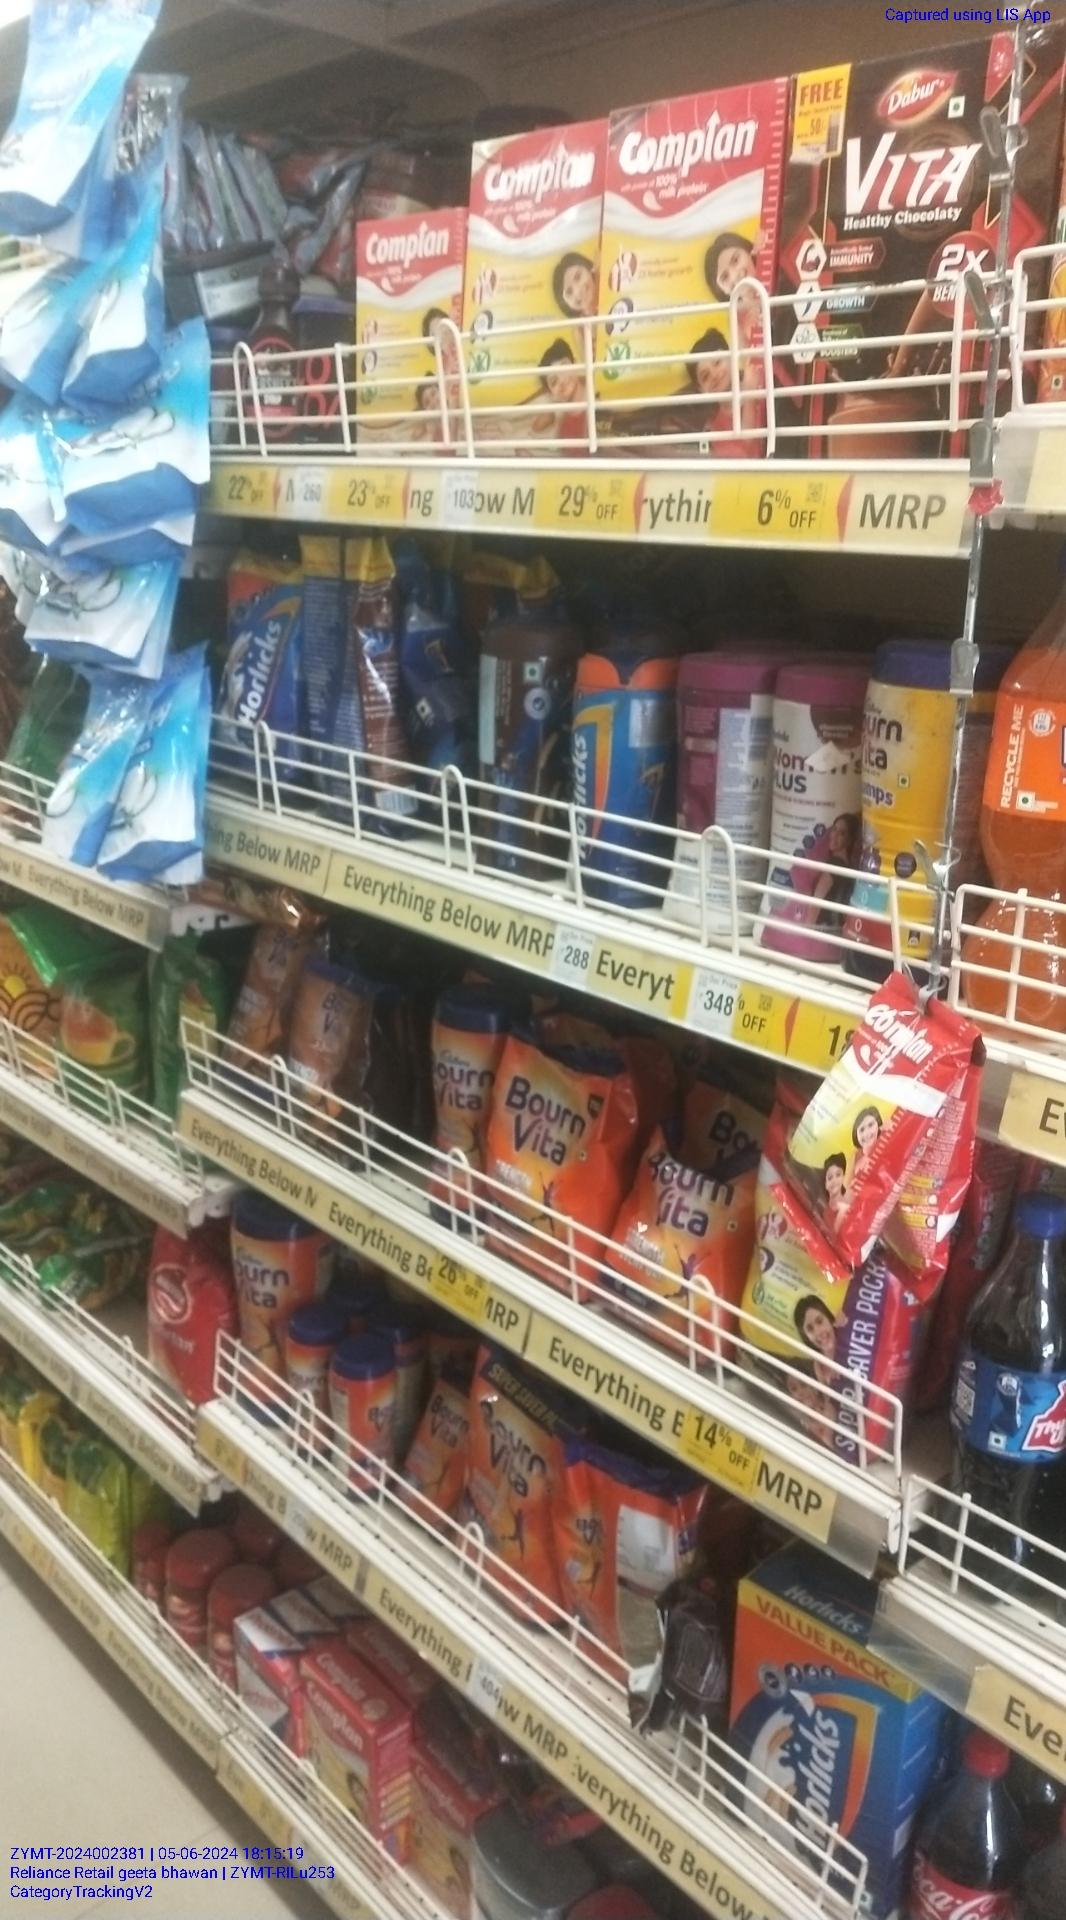BOURN_VITA_CHAMPS_500_G_JAR: (845, 637, 945, 970)
COMPLAN_KESAR_BADAM_200_GMS_PACK: (352, 215, 457, 462)
